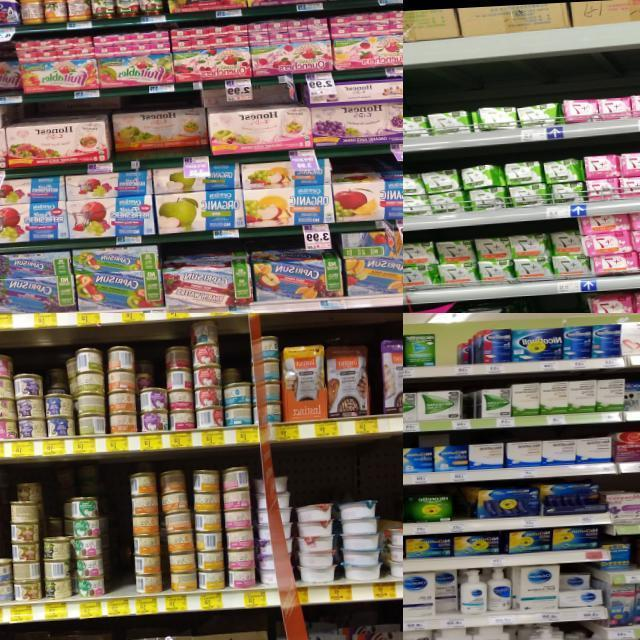Imprecise: (205, 77, 314, 152), (162, 246, 250, 308), (111, 104, 208, 156), (254, 245, 344, 299), (8, 480, 43, 602), (165, 336, 202, 436), (135, 349, 167, 431), (40, 361, 76, 433), (41, 512, 70, 601), (221, 361, 256, 424), (417, 428, 460, 473), (557, 572, 604, 606), (432, 575, 464, 621)
